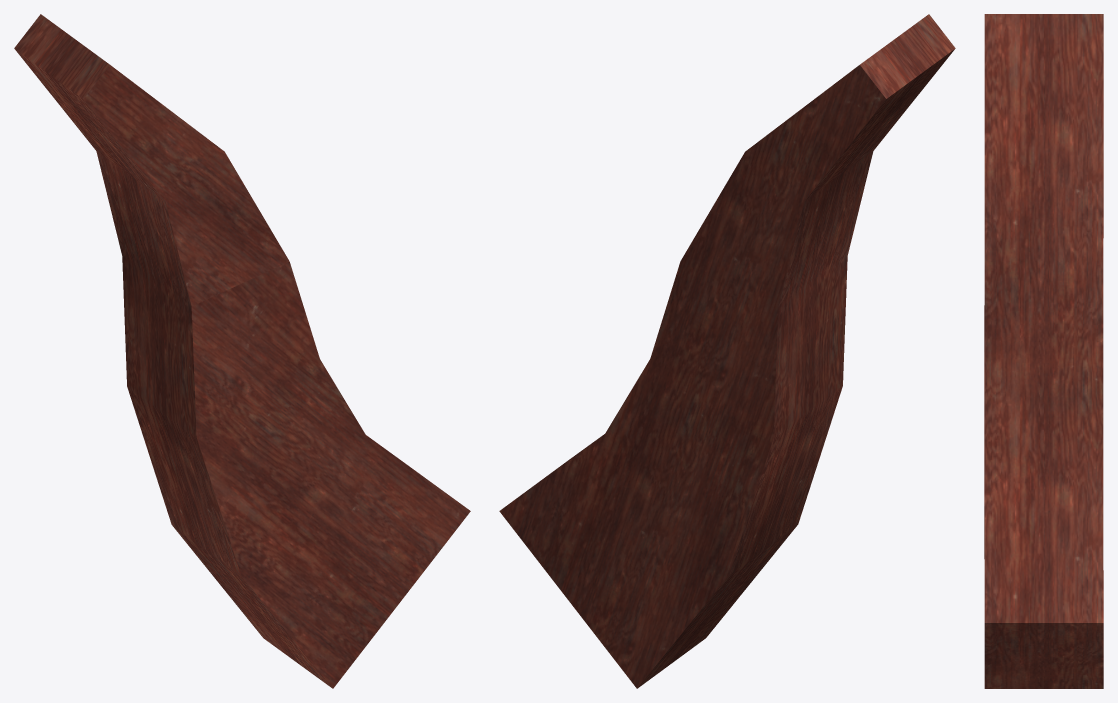
File: corridorfenceRung.fbx
The picture shows the model from 3 angles, left to right: view 1: azimuth 30°, elevation 25°; view 2: azimuth 150°, elevation 25°; view 3: azimuth 270°, elevation 25°; orthographic projection. The views are drawn at different scales.
Parts seen in each view (by area): view 1: fenceRungs; view 2: fenceRungs; view 3: fenceRungs.
Part boxes in pixels (x1=…): fenceRungs: x1=14, y1=14, x2=470, y2=688; fenceRungs: x1=499, y1=14, x2=955, y2=688; fenceRungs: x1=984, y1=14, x2=1103, y2=688.
Size of the model in its own units: 0.3767 by 0.6306 by 0.1171.
